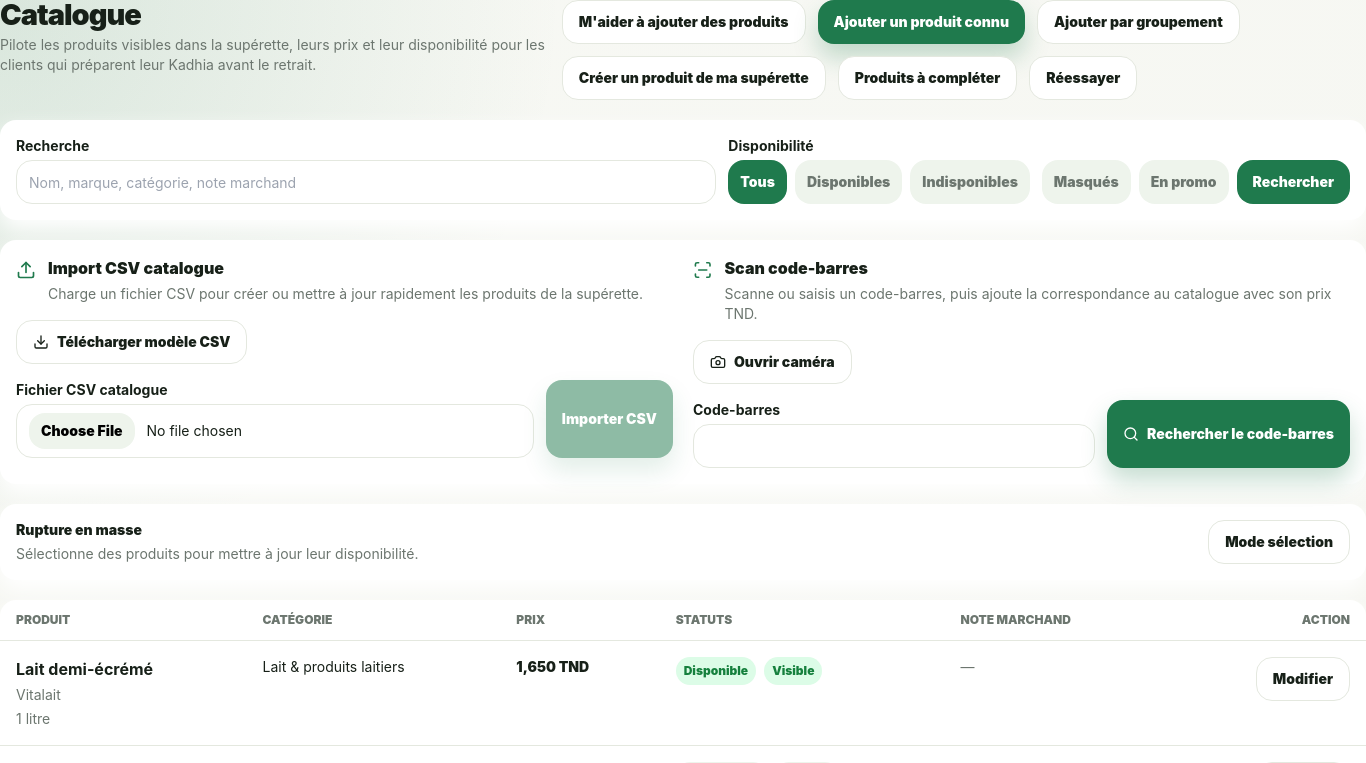
it: MerchantCatalogPage › loads merchant categories and shows the selector in edit drawer
Expected: the text "Lait demi-écrémé" is shown, [16,659,153,679]
Click the button "Modifier" in the row of "Lait demi-écrémé".
click(1303, 679)  # box [1256,657,1350,701]
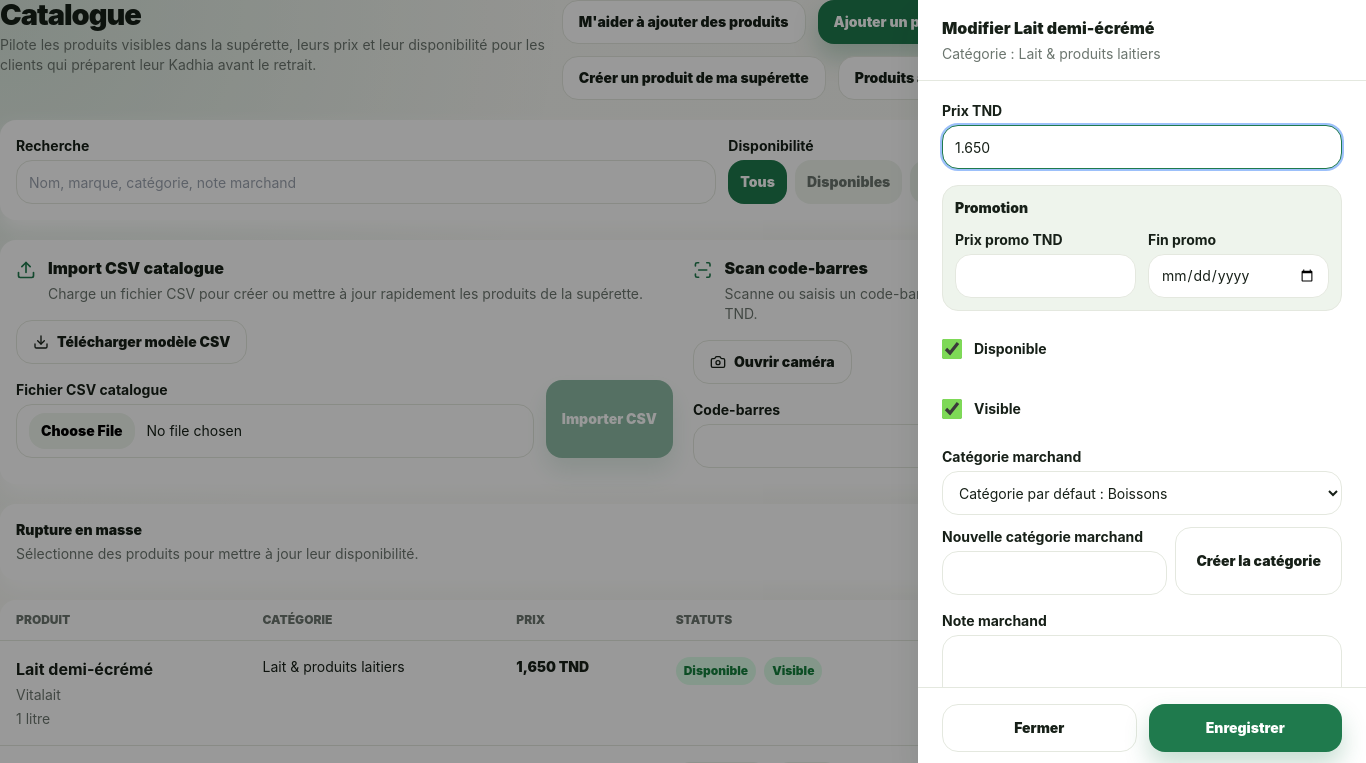
Result: the dropdown labelled "Catégorie marchand" is shown at [942,471,1342,515]
